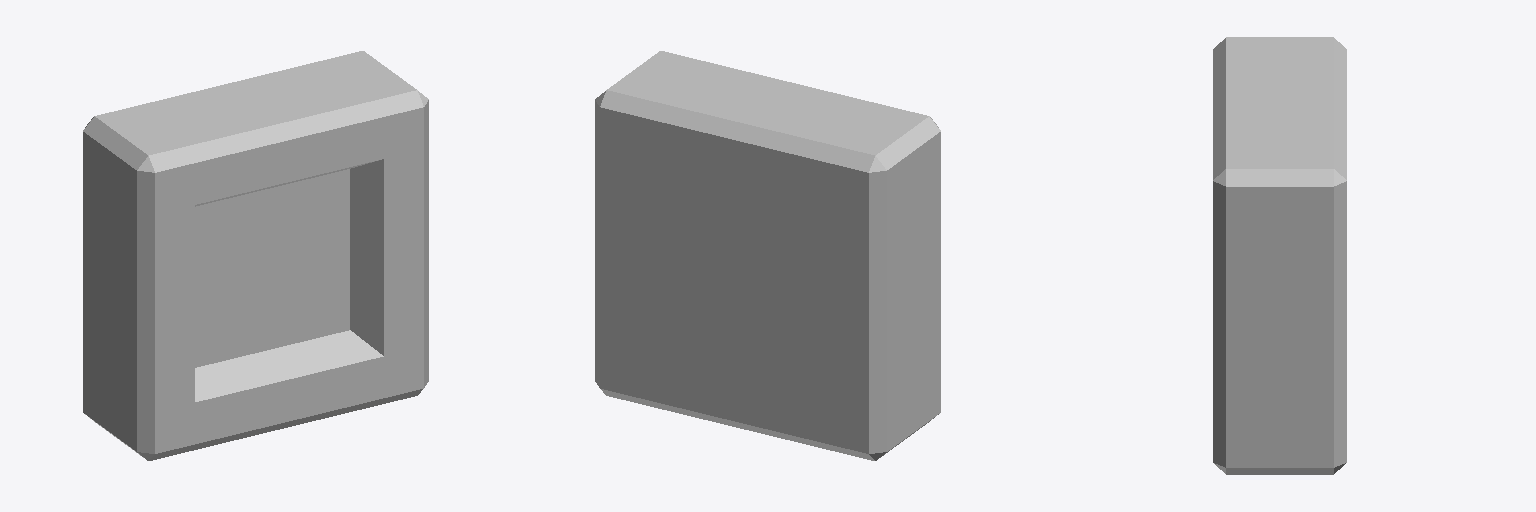
File: pictureframe_small_C.obj
The picture shows the model from 3 angles: view 1: azimuth 30°, elevation 25°; view 2: azimuth 150°, elevation 25°; view 3: azimuth 270°, elevation 25°; orthographic projection.
Visible parts, largest first — view 1: pictureframe_small_C_Cube.025; view 2: pictureframe_small_C_Cube.025; view 3: pictureframe_small_C_Cube.025.
Part boxes in pixels (bbox=[...]): pictureframe_small_C_Cube.025: bbox=[83, 51, 428, 460]; pictureframe_small_C_Cube.025: bbox=[595, 51, 940, 460]; pictureframe_small_C_Cube.025: bbox=[1213, 37, 1346, 474].
Bounding box in the file's own units: 0.5 × 0.5 × 0.2.